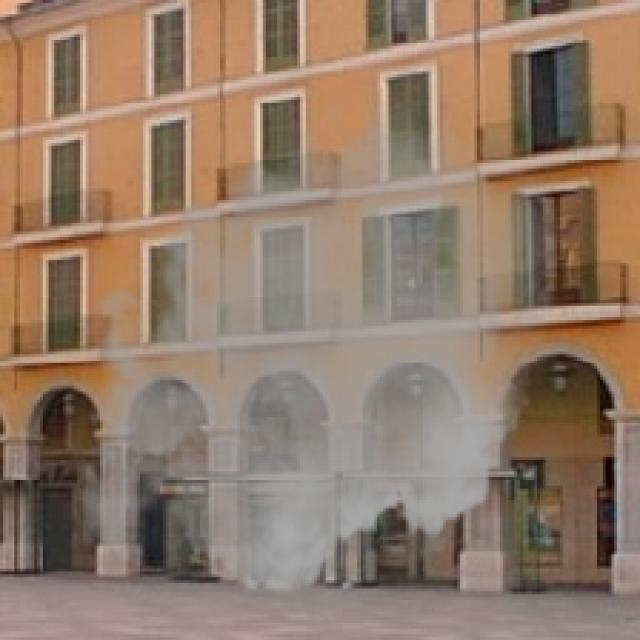smoke: (60, 86, 574, 608)
